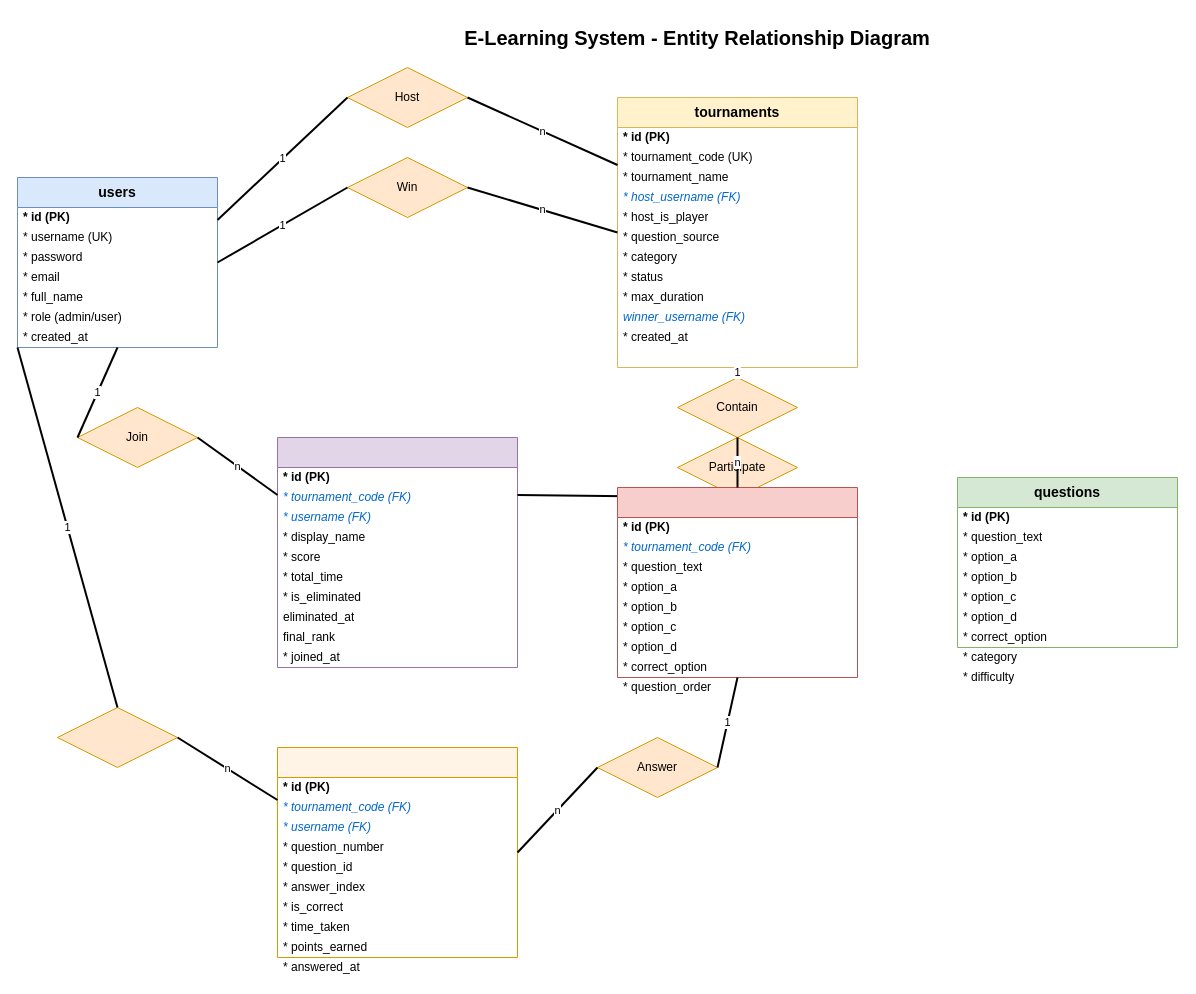
Image size: 1196x994. Some labels were removed from this diagram. Each missing label, with the box of its shape:
Submit: (56, 706, 178, 768)
tournament_answers: (276, 746, 518, 958)
tournament_participants: (276, 436, 518, 668)
tournament_questions: (616, 486, 858, 678)
